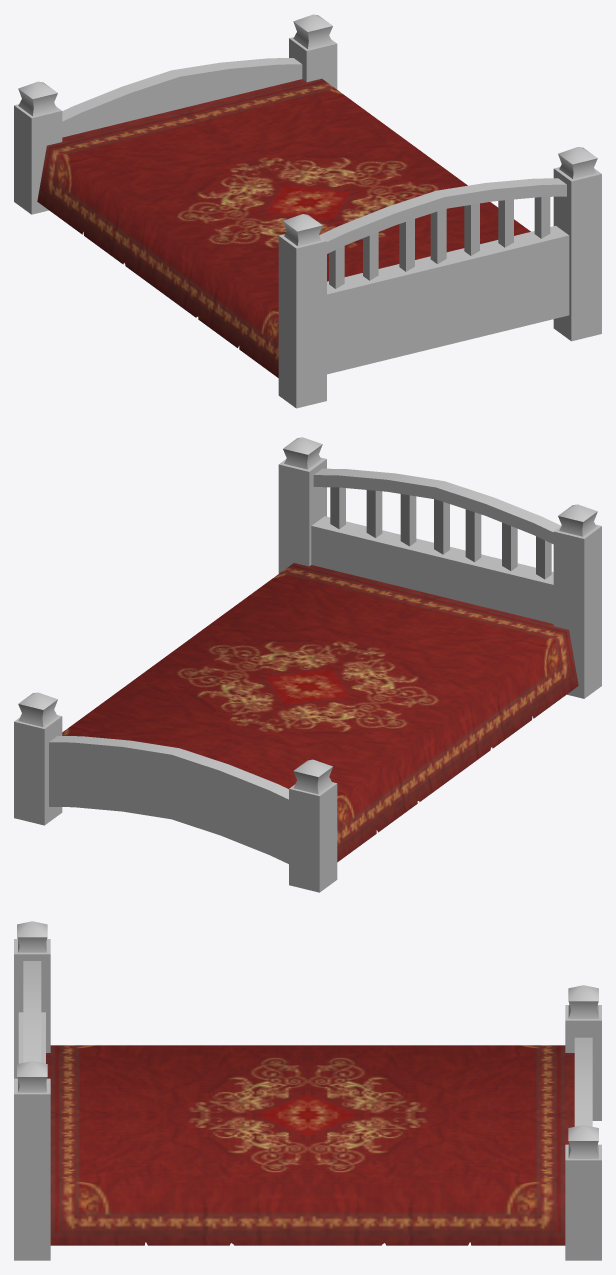
File: Bed_1.fbx
3 renders of one model, top to bottom at view 1: azimuth 30°, elevation 25°; view 2: azimuth 150°, elevation 25°; view 3: azimuth 270°, elevation 25°, orthographic. The views are drawn at different scales.
Parts seen in each view (by area): view 1: polySurface7906, Alpha; view 2: Alpha, polySurface7906; view 3: Alpha, polySurface7906.
Part boxes in pixels (left/top/right/bottom): polySurface7906: left=14, top=14, right=601, bottom=408; Alpha: left=37, top=78, right=530, bottom=377; Alpha: left=62, top=563, right=578, bottom=862; polySurface7906: left=14, top=437, right=601, bottom=892; Alpha: left=46, top=1045, right=574, bottom=1245; polySurface7906: left=14, top=921, right=601, bottom=1260.
Bounding box in the file's own units: 2 × 1.15 × 3.2.
